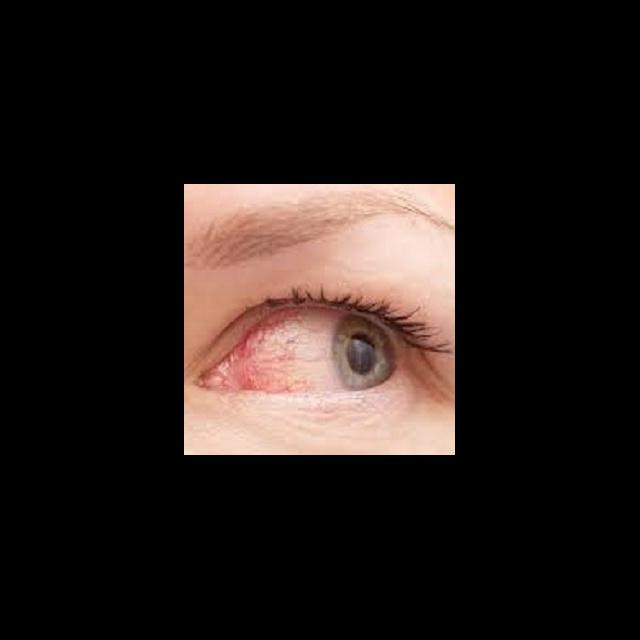eye: (236, 308, 396, 390)
iris: (337, 310, 396, 387)
